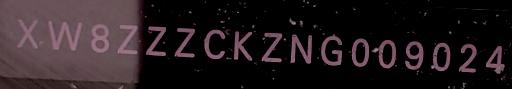letter: (46, 18, 86, 53), (14, 16, 42, 53), (318, 33, 346, 68), (173, 25, 199, 60), (257, 30, 283, 65), (144, 23, 170, 56), (116, 21, 140, 56), (288, 33, 314, 64), (202, 27, 226, 60), (232, 28, 254, 63), (349, 35, 371, 70), (456, 42, 478, 75), (484, 44, 506, 76), (375, 38, 397, 69), (402, 40, 424, 71), (430, 42, 452, 73), (90, 22, 110, 53)
